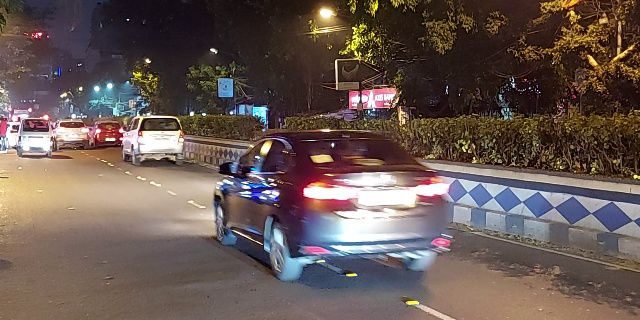Car: (216, 128, 464, 288), (128, 111, 193, 171)
Van: (15, 112, 57, 160)
